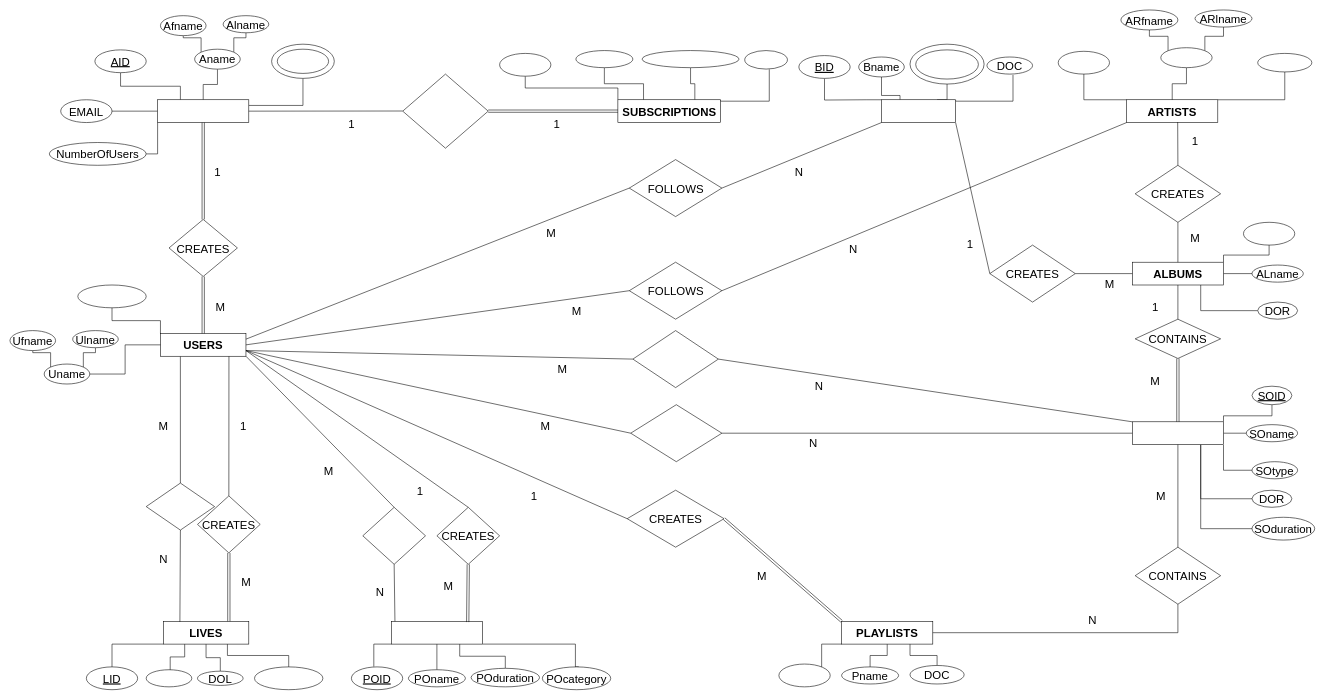
This 1325x700 diagram has some shape labels left out. Each missing label, with the centre of its shape:
"ACCOUNTS" goes at pixel 203 111.
"ALID" goes at pixel 1269 233.
"ARID" goes at pixel 1084 62.
"ARname" goes at pixel 1186 57.
"BANDS" goes at pixel 918 111.
"Bmembers" goes at pixel 946 64.
"DOB" goes at pixel 1284 62.
"DOS" goes at pixel 765 59.
"DOWNLOADS" goes at pixel 676 433.
"Lcategory" goes at pixel 288 678.
"LIKES" goes at pixel 675 359.
"LISTENS" goes at pixel 394 535.
"Lname" goes at pixel 169 678.
"PaymentMethod" goes at pixel 690 59.
"PHONE" goes at pixel 303 61.
"PID" goes at pixel 804 675.
"PODCASTS" goes at pixel 437 632.
"SID" goes at pixel 525 64.
"SONGS" goes at pixel 1178 433.
"Stype" goes at pixel 604 59.
"SUBSCRIBES" goes at pixel 445 111.
"UID" goes at pixel 111 296.
"WATCHES" goes at pixel 180 506.
